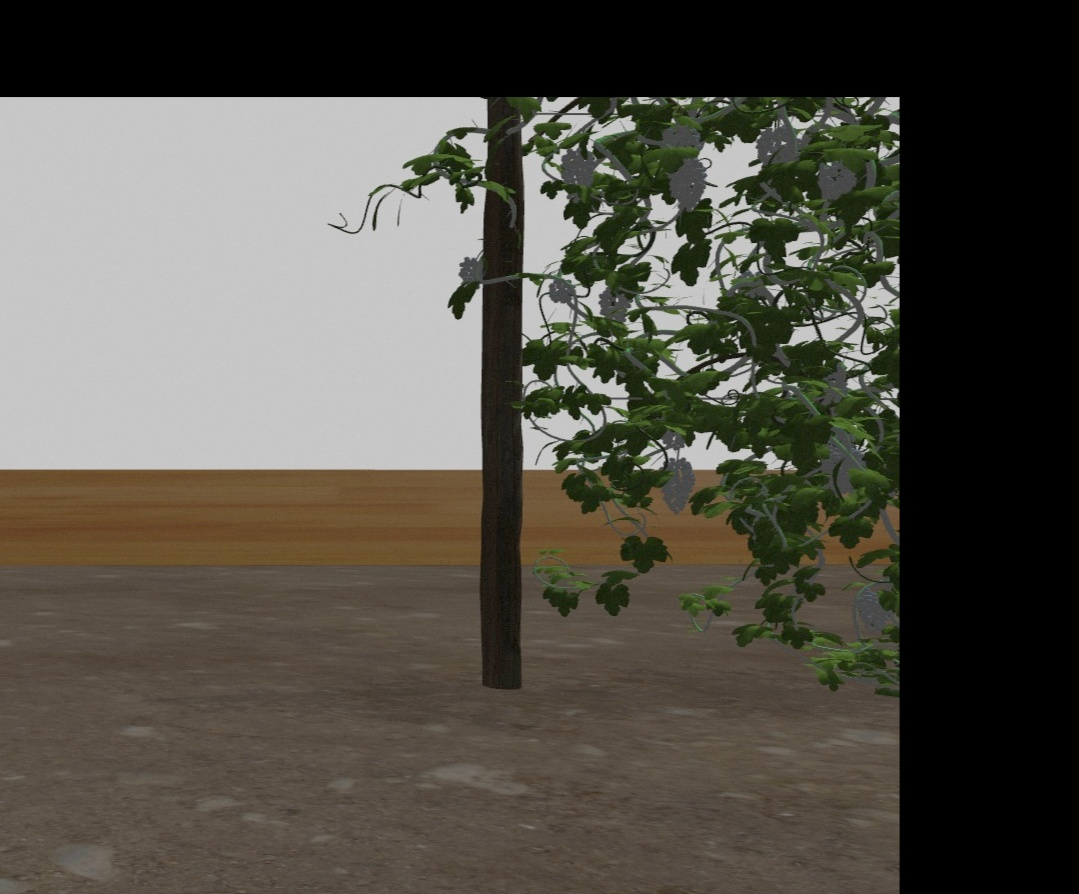grape: (653, 459, 697, 515), (822, 438, 863, 492), (668, 160, 707, 214), (854, 589, 891, 633), (558, 150, 597, 191), (816, 163, 855, 203), (596, 282, 633, 324), (659, 123, 699, 151), (456, 254, 482, 286), (547, 277, 574, 304)
